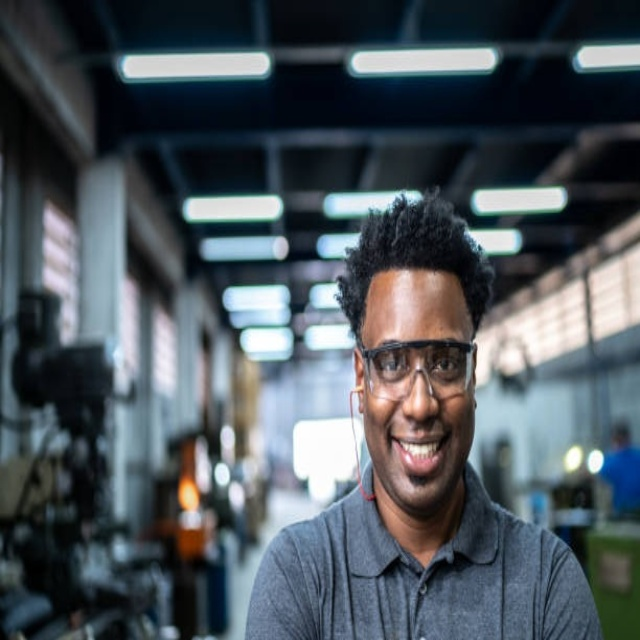Gafas: (359, 338, 477, 400)
Sin_mascara: (383, 421, 458, 496)
